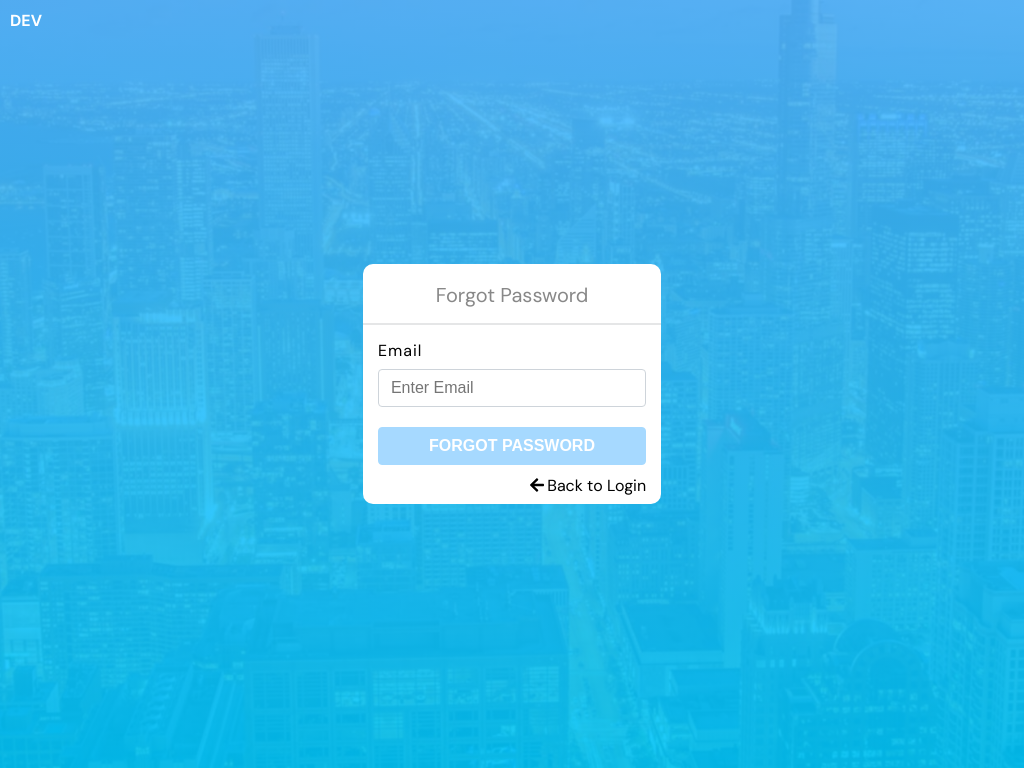
Test: Forget Password › Error › should display error alert and border
Type "no-exist@test.com" into the field labelled "Email" at (512, 388), box x1=378 y1=369 x2=646 y2=407
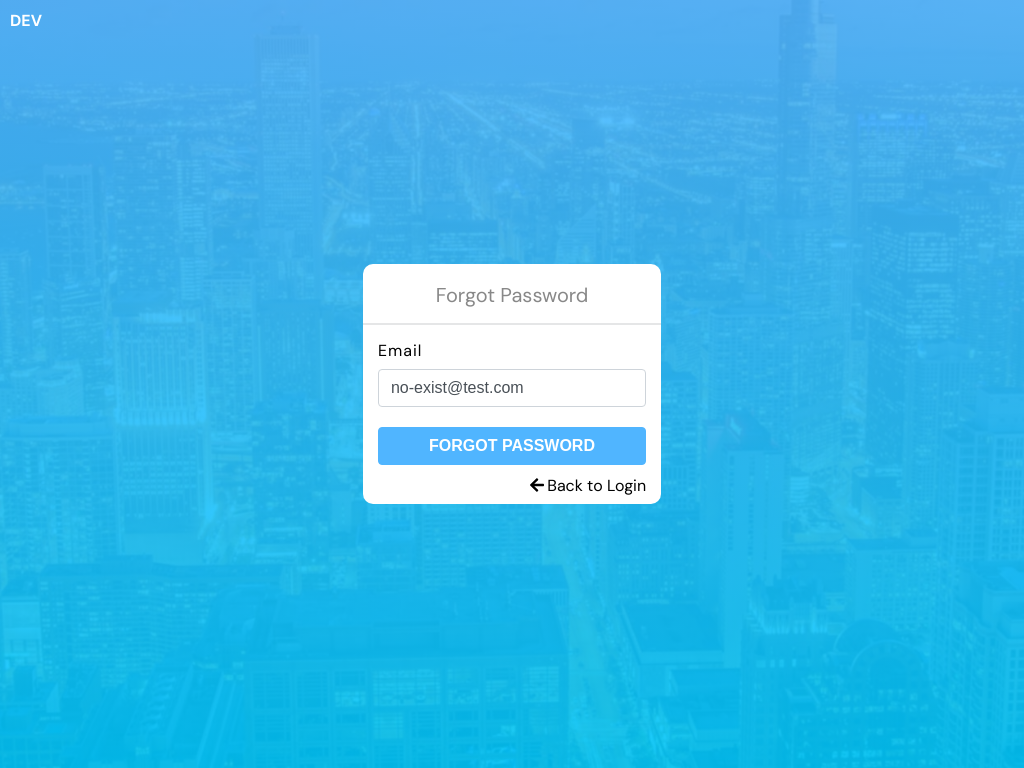
Click the button at (512, 446), box x1=378 y1=427 x2=646 y2=465
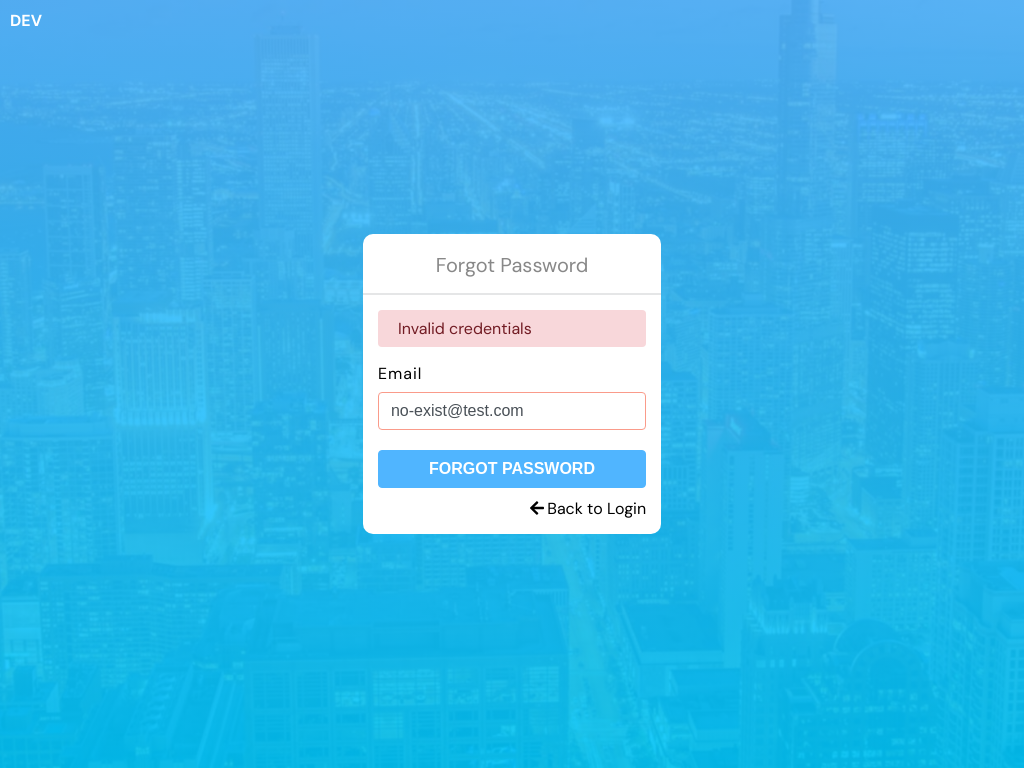
Expected: the message "Invalid credentials" is shown, x1=378 y1=310 x2=646 y2=347
Expected: the message reads "Invalid credentials", x1=398 y1=318 x2=532 y2=339
